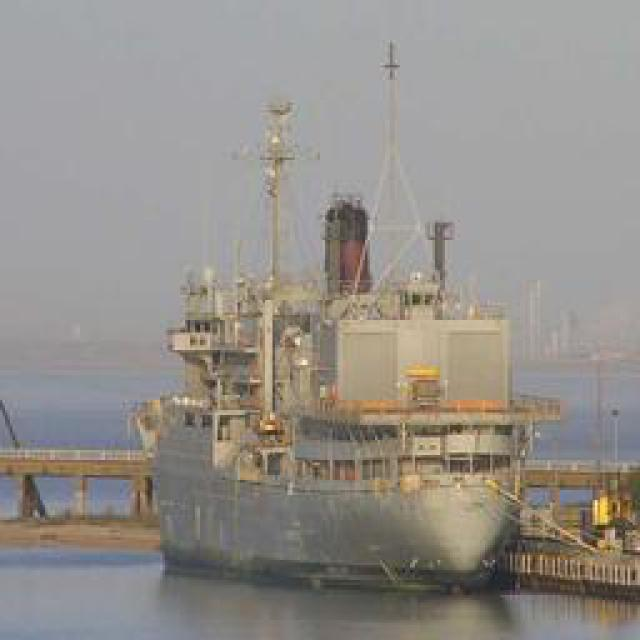Ship: (136, 203, 534, 591)
